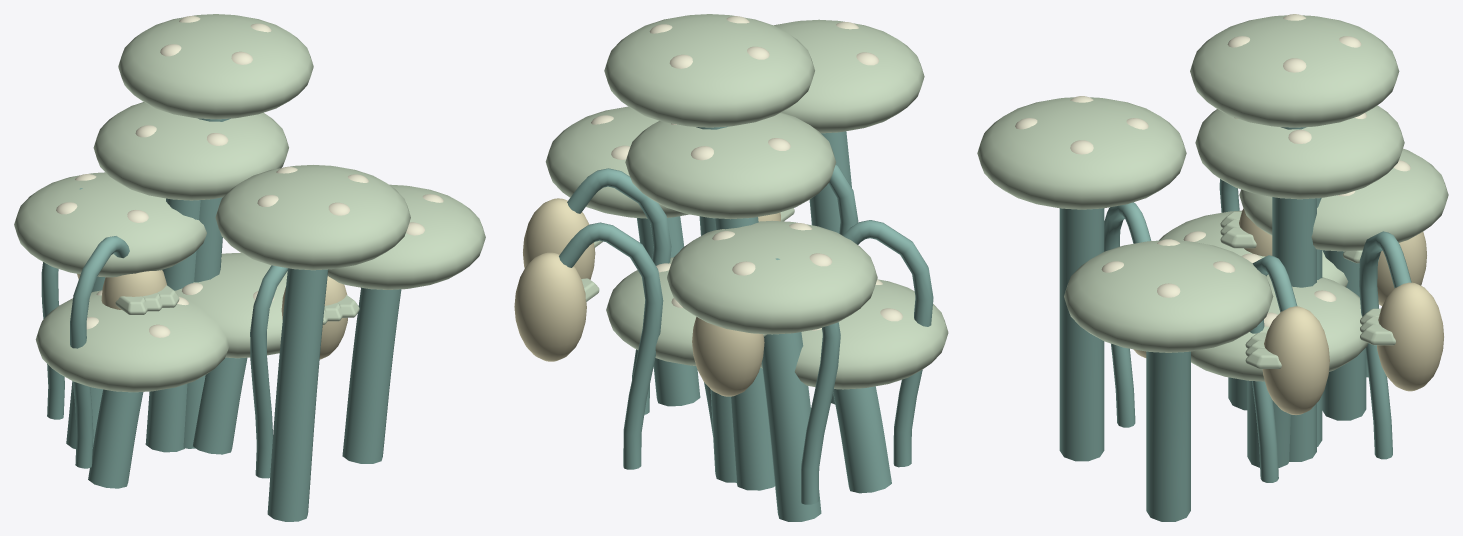
File: bio_spore_fungus_08_near.glb
The picture shows the model from 3 angles, left to right: view 1: azimuth 30°, elevation 25°; view 2: azimuth 150°, elevation 25°; view 3: azimuth 270°, elevation 25°; orthographic projection. The views are drawn at different scales.
Parts seen in each view (by area): view 1: Thick umbrella cap.002, Thick umbrella cap.003, Thick umbrella cap.006, Thick umbrella cap.004, Thick umbrella cap.001, Curved stipe.002, Thick umbrella cap.005, Curved stipe.005, Thick umbrella cap, Curved stipe.004, Curved stipe.006, Arched fruit stem.004 (+12 smaller); view 2: Thick umbrella cap.003, Thick umbrella cap.001, Thick umbrella cap.006, Thick umbrella cap.002, Thick umbrella cap.004, Curved stipe.001, Thick umbrella cap.005, Pendant spore capsule.003, Arched fruit stem.003, Curved stipe.004, Thick umbrella cap, Arched fruit stem.004 (+12 smaller); view 3: Thick umbrella cap.003, Thick umbrella cap.002, Thick umbrella cap.005, Thick umbrella cap.006, Thick umbrella cap.001, Curved stipe.002, Curved stipe.005, Thick umbrella cap, Pendant spore capsule.003, Pendant spore capsule, Curved stipe.003, Arched fruit stem.003 (+15 smaller).
Part boxes in pixels (x1,y1,x2,y2): Thick umbrella cap.002: [215, 165, 410, 270]; Thick umbrella cap.003: [118, 14, 313, 119]; Thick umbrella cap.006: [93, 102, 288, 200]; Thick umbrella cap.004: [35, 290, 229, 392]; Thick umbrella cap.001: [14, 172, 206, 277]; Curved stipe.002: [267, 268, 328, 521]; Thick umbrella cap.005: [327, 184, 485, 289]; Curved stipe.005: [342, 287, 401, 463]; Thick umbrella cap: [174, 253, 287, 358]; Curved stipe.004: [88, 389, 143, 488]; Curved stipe.006: [145, 198, 200, 452]; Arched fruit stem.004: [70, 236, 129, 468]; Thick umbrella cap.003: [604, 14, 814, 127]; Thick umbrella cap.001: [667, 220, 877, 334]; Thick umbrella cap.006: [625, 112, 836, 219]; Thick umbrella cap.002: [774, 19, 924, 133]; Thick umbrella cap.004: [760, 279, 948, 389]; Curved stipe.001: [761, 332, 821, 521]; Thick umbrella cap.005: [545, 106, 689, 218]; Pendant spore capsule.003: [514, 252, 586, 361]; Arched fruit stem.003: [559, 222, 663, 469]; Curved stipe.004: [833, 386, 891, 493]; Thick umbrella cap: [606, 257, 696, 365]; Arched fruit stem.004: [843, 220, 933, 467]; Thick umbrella cap.003: [1190, 15, 1399, 127]; Thick umbrella cap.002: [977, 97, 1186, 209]; Thick umbrella cap.005: [1064, 240, 1273, 352]; Thick umbrella cap.006: [1195, 105, 1404, 199]; Thick umbrella cap.001: [1239, 148, 1448, 251]; Curved stipe.002: [1059, 208, 1104, 461]; Curved stipe.005: [1146, 351, 1190, 521]; Thick umbrella cap: [1191, 275, 1368, 381]; Pendant spore capsule.003: [1377, 282, 1443, 391]; Pendant spore capsule: [1262, 306, 1329, 414]; Curved stipe.003: [1272, 127, 1316, 461]; Arched fruit stem.003: [1359, 231, 1411, 459].
Bounding box in the file's own units: 1.82 × 1.82 × 1.8.
